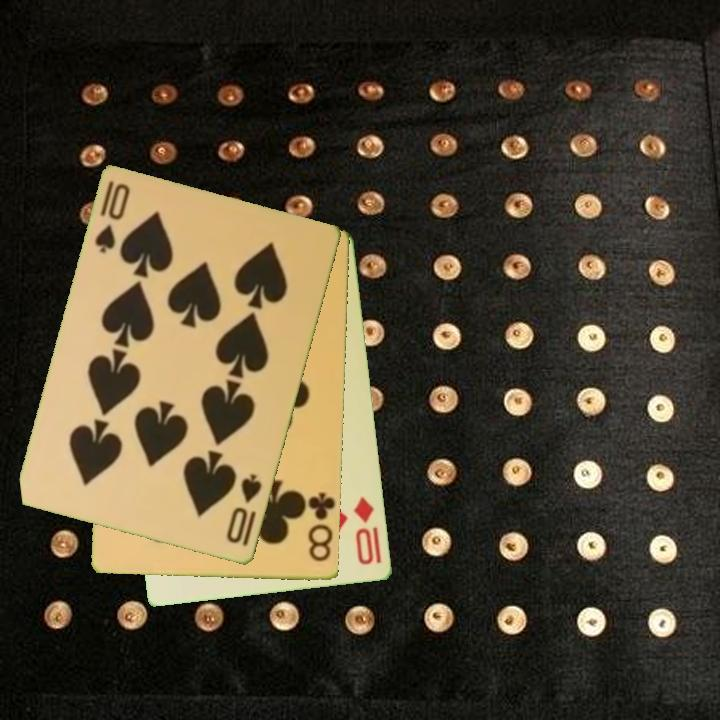10d: (351, 493, 377, 568)
10s: (91, 177, 133, 257), (223, 470, 265, 547)
8c: (302, 489, 337, 565)
